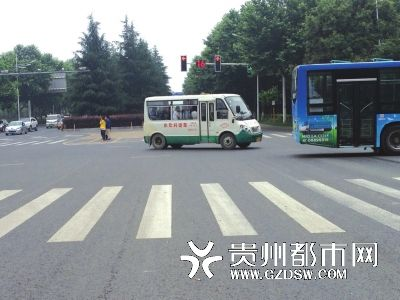red: (179, 53, 188, 76), (213, 53, 222, 74)
